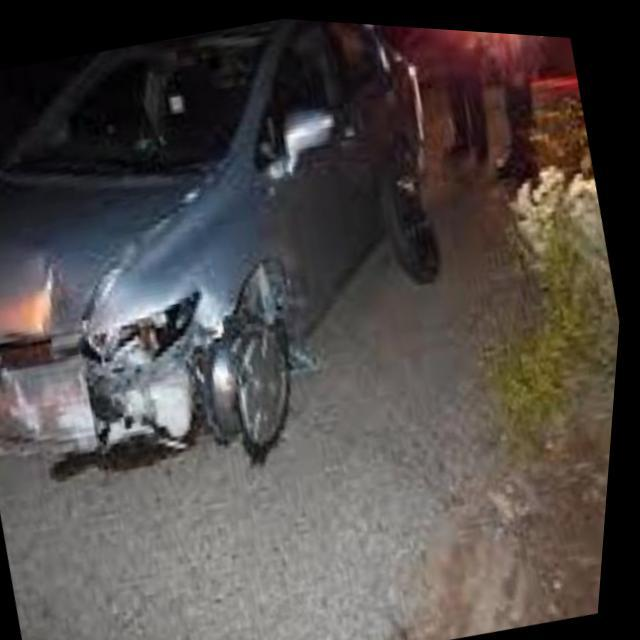dent: (0, 248, 83, 338)
dislocated part: (0, 333, 45, 373)
lamp broken: (87, 286, 199, 368)
no part: (88, 320, 223, 452)
